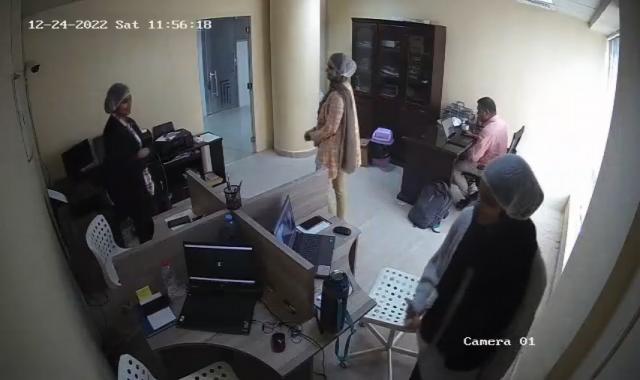hairnet: (476, 152, 544, 229), (104, 81, 133, 120), (326, 50, 355, 86)
no_hairnet: (476, 98, 498, 124)
